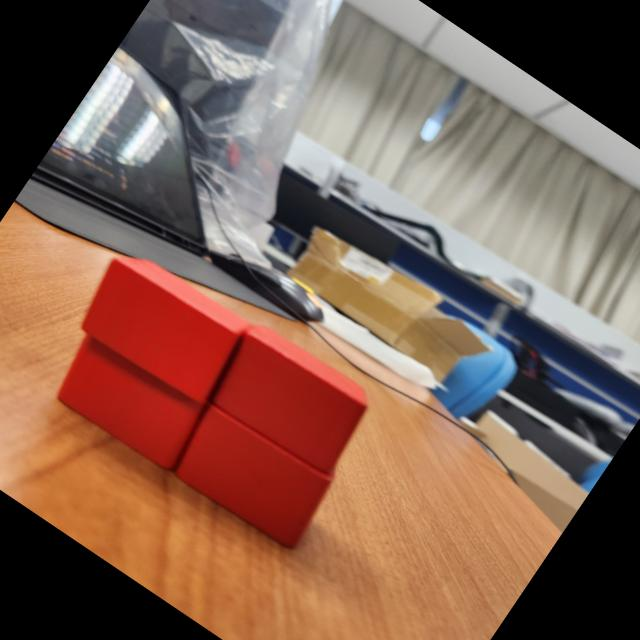red: (66, 238, 260, 414), (156, 387, 344, 556), (202, 316, 384, 481), (46, 318, 222, 477)
